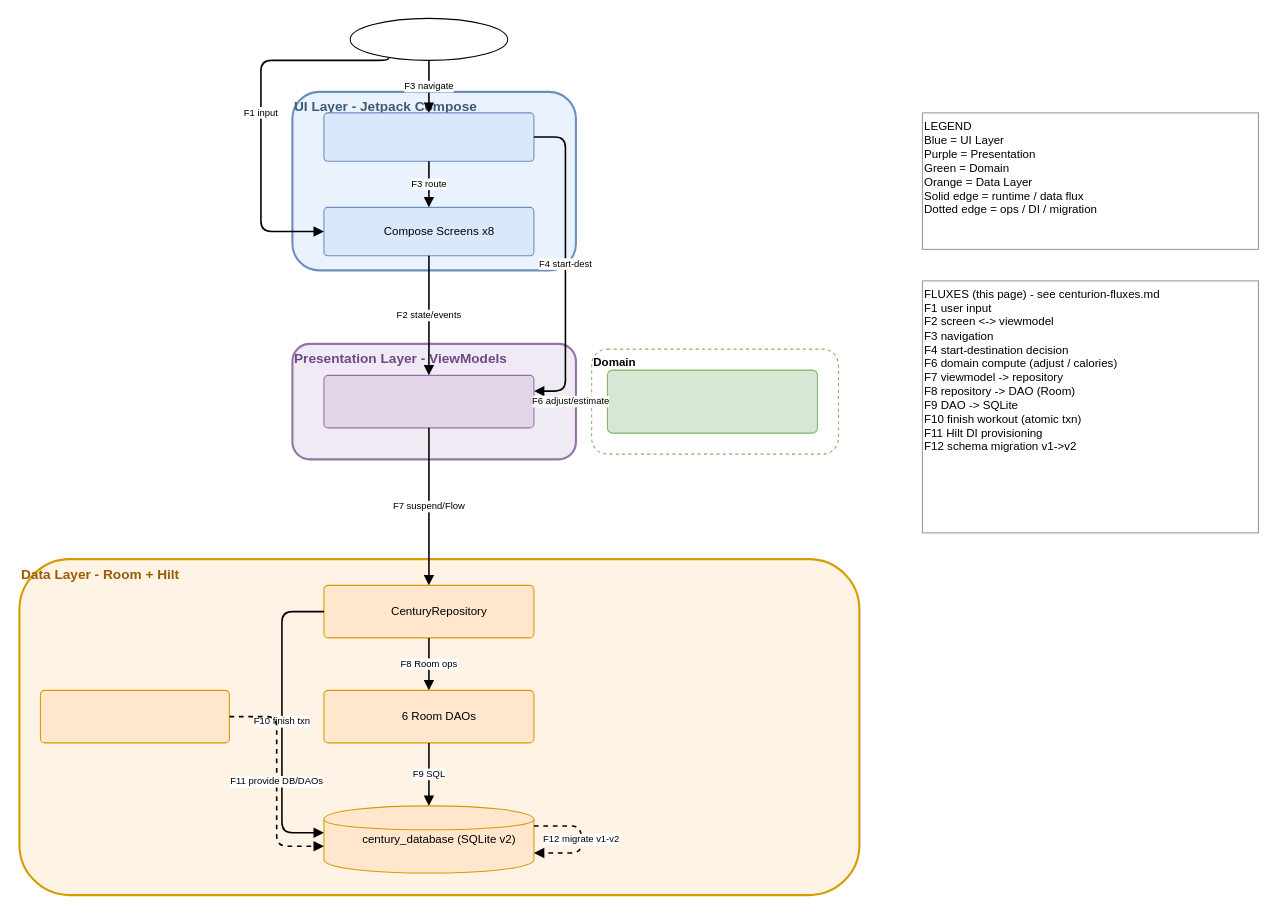
The diagram is 1277 pixels wide and 915 high, and some of its shapes have lost their labels. Here are the shapes that lost their labels. From the top down, the centre of each, then its label:
(428,38): User
(428,136): CenturyNavHost
(428,401): 8 ViewModels
(711,401): TrainingProgramData + CalorieCalculator
(134,716): AppModule (Hilt DI)
